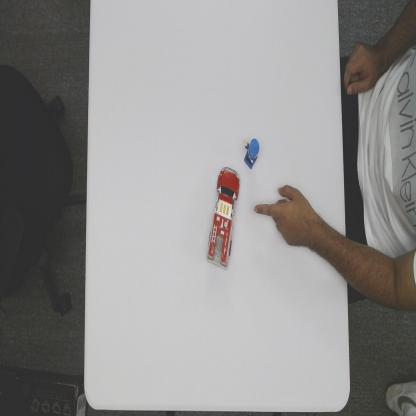Arm: (307, 210, 347, 277)
Firetruck: (206, 164, 240, 269)
Hand: (254, 185, 310, 251)
